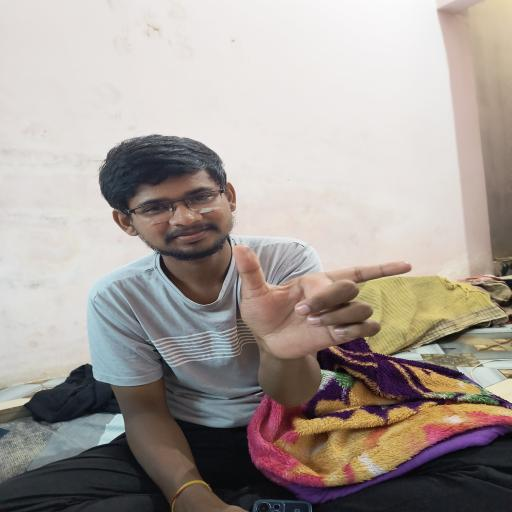Sorry: (205, 232, 419, 364)
